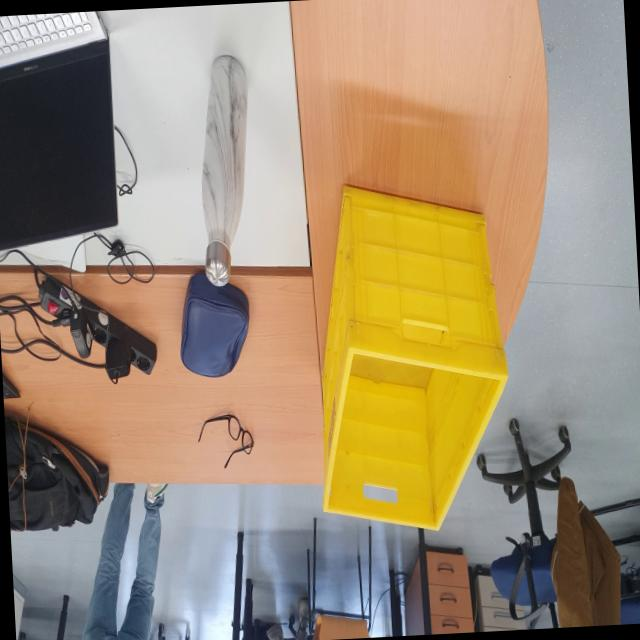box: (300, 163, 522, 564)
